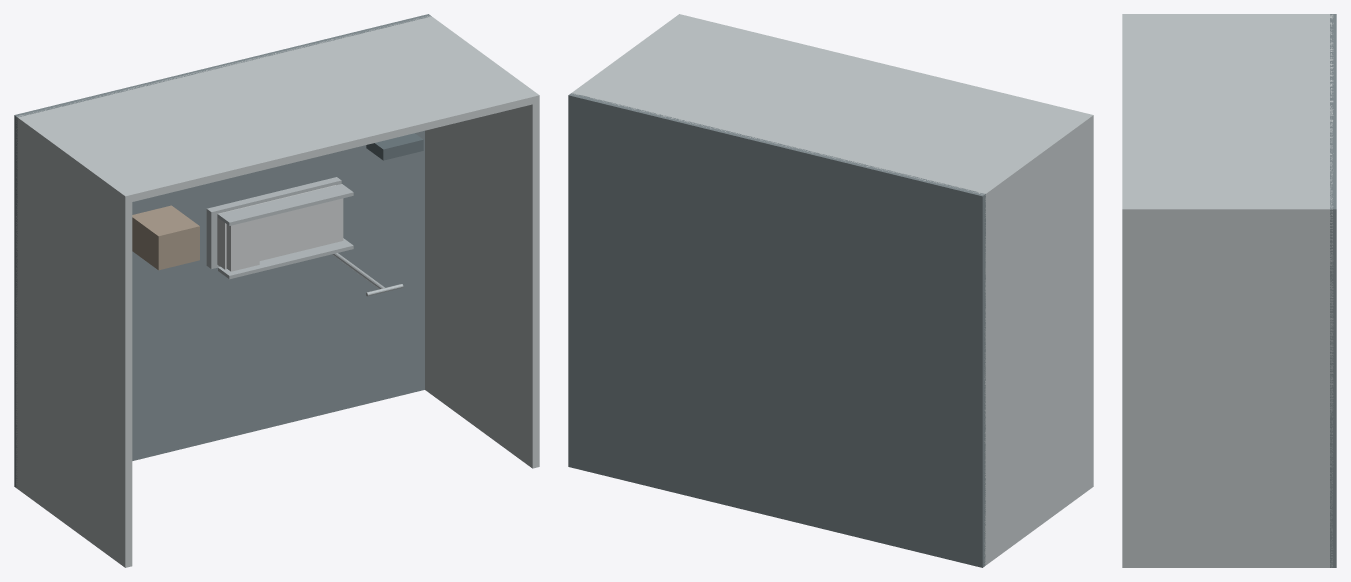
The model's file is patient-room-medium.glb.
3 views of the same model, side by side, from view 1: azimuth 30°, elevation 25°; view 2: azimuth 150°, elevation 25°; view 3: azimuth 270°, elevation 25° (orthographic). The views are drawn at different scales.
Visible parts, largest first — view 1: floor, wall_back, wall_left, wall_right, bed, bedside_table, bed_rail_right, bed_frame, pillow, bed_rail_left, monitor; view 2: floor, wall_back, wall_left; view 3: wall_right, wall_back, floor, wall_left.
Boxes of the visible parts, x1=… form: floor: x1=14, y1=14, x2=431, y2=487; wall_back: x1=16, y1=16, x2=539, y2=203; wall_left: x1=16, y1=115, x2=132, y2=567; wall_right: x1=424, y1=16, x2=539, y2=468; bed: x1=217, y1=185, x2=343, y2=269; bedside_table: x1=132, y1=205, x2=199, y2=270; bed_rail_right: x1=218, y1=184, x2=353, y2=225; bed_frame: x1=206, y1=177, x2=341, y2=268; pillow: x1=226, y1=219, x2=259, y2=271; bed_rail_left: x1=218, y1=238, x2=353, y2=279; monitor: x1=366, y1=133, x2=423, y2=160; floor: x1=568, y1=93, x2=985, y2=567; wall_back: x1=572, y1=14, x2=1093, y2=201; wall_left: x1=978, y1=114, x2=1093, y2=565; wall_right: x1=1122, y1=206, x2=1333, y2=567; wall_back: x1=1122, y1=14, x2=1333, y2=216; floor: x1=1330, y1=14, x2=1336, y2=567; wall_left: x1=1122, y1=14, x2=1333, y2=17.
Bounding box in the file's own units: 7 × 6 × 3.25.
